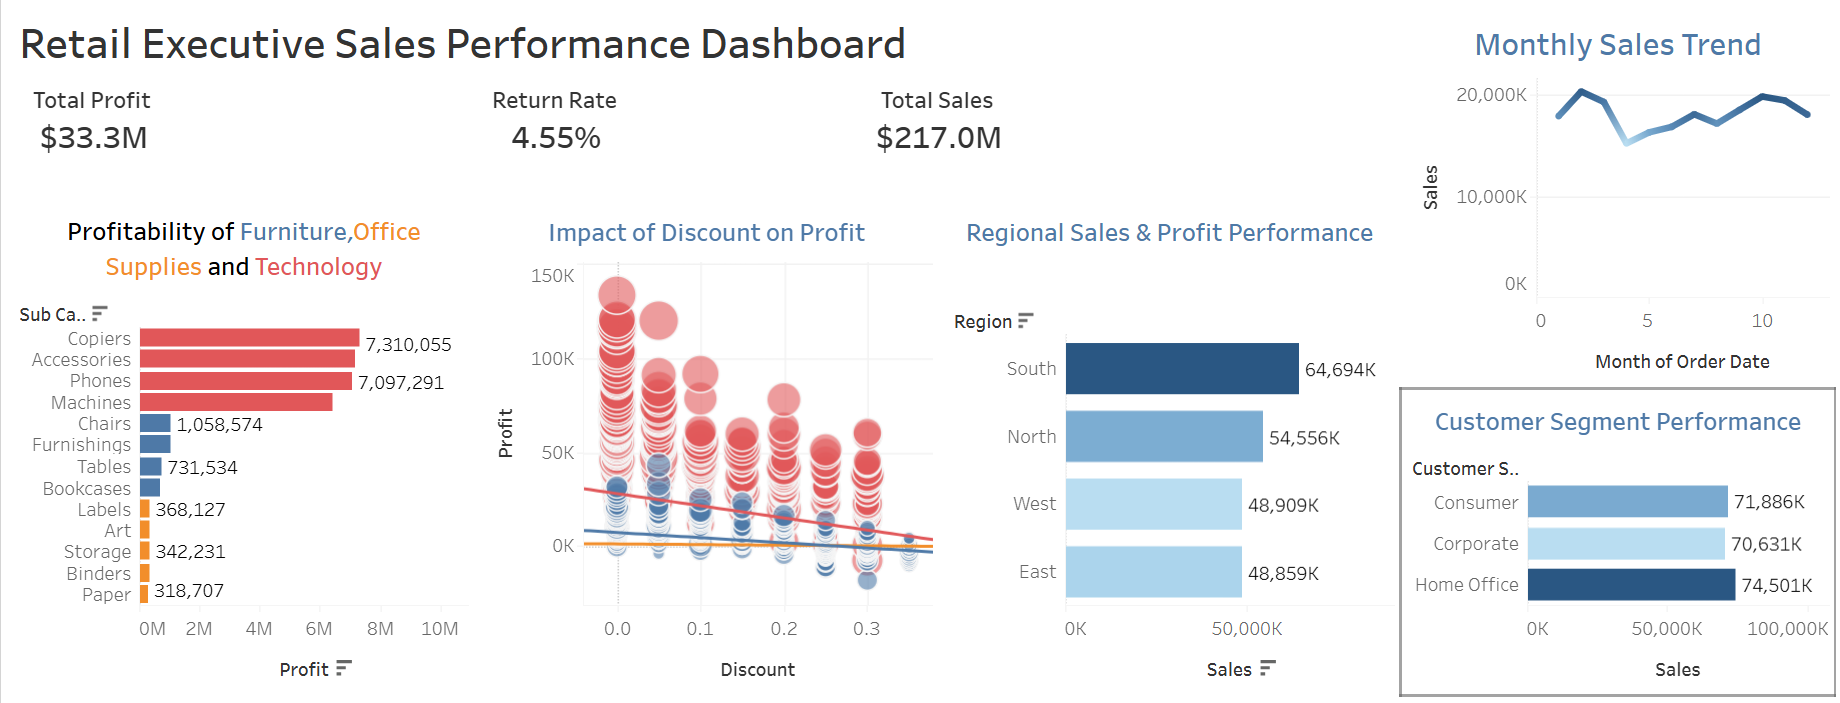

What the dashboard file says about the page in this screenshot:
{"tool":"tableau","page":{"name":"Retail Executive Sales Performance Dashboard","canvas":[1000,1000],"units":"permille","ordinal":0},"visuals":[{"type":"title","box":[6.5,16.8,751.4,96.8]},{"type":"worksheet","title":"Sales Trend","mark":"Line","rows":["sales"],"cols":["order_date"],"box":[757.9,16.8,235.6,534.7]},{"type":"worksheet","title":"KPI-total profit","mark":"Automatic","box":[6.5,113.7,250.1,172.6]},{"type":"worksheet","title":"KPI-return rate","mark":"Automatic","box":[256.6,113.7,207.1,172.6]},{"type":"worksheet","title":"KPI-total sales","mark":"Automatic","box":[463.7,113.7,294.2,172.6]},{"type":"worksheet","title":"Category Profitability","mark":"Automatic","rows":["sub_category"],"cols":["profit"],"box":[6.5,286.2,250.4,696.9]},{"type":"worksheet","title":"Discount vs Profit","mark":"Circle","rows":["profit"],"cols":["discount"],"box":[256.9,286.2,250.5,696.9]},{"type":"worksheet","title":"Regional Performance","mark":"Bar","rows":["region"],"cols":["sales"],"box":[507.4,286.2,250.6,696.9]},{"type":"worksheet","title":"Customer Segment","mark":"Bar","rows":["customer_segment"],"cols":["sales"],"box":[757.9,551.6,235.6,431.6]}]}

Visuals, with their boxes on the dashboard's canvas, which has no fixed pixel size, in thousandths of its width and height (x1, y1, x2, y2). These are canvas units, not pixel positions in the 1840x703 screenshot, which may show the page scaled, cropped or inside an application window:
title: bbox=[6, 17, 758, 114]
"Sales Trend" worksheet (Line marks): bbox=[758, 17, 994, 552]
"KPI-total profit" worksheet: bbox=[6, 114, 257, 286]
"KPI-return rate" worksheet: bbox=[257, 114, 464, 286]
"KPI-total sales" worksheet: bbox=[464, 114, 758, 286]
"Category Profitability" worksheet: bbox=[6, 286, 257, 983]
"Discount vs Profit" worksheet (Circle marks): bbox=[257, 286, 507, 983]
"Regional Performance" worksheet (Bar marks): bbox=[507, 286, 758, 983]
"Customer Segment" worksheet (Bar marks): bbox=[758, 552, 994, 983]
